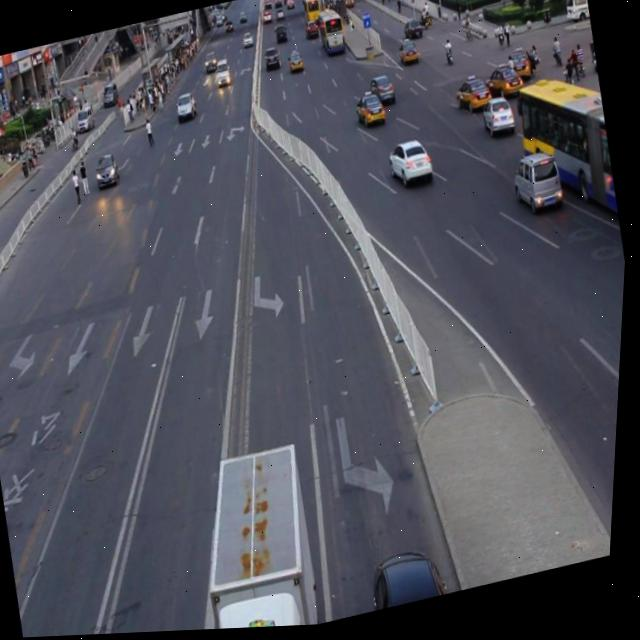bus: (186, 443, 334, 633)
car: (368, 546, 455, 616), (509, 152, 567, 220), (386, 139, 437, 193), (479, 98, 519, 144)
van: (509, 72, 627, 241)
